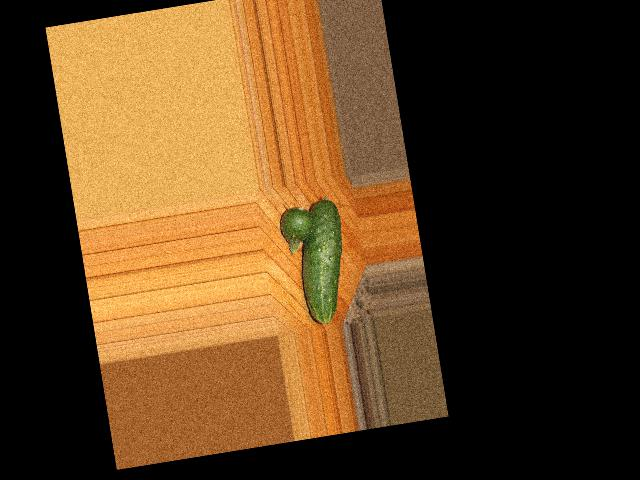cucumber: (289, 197, 355, 326)
